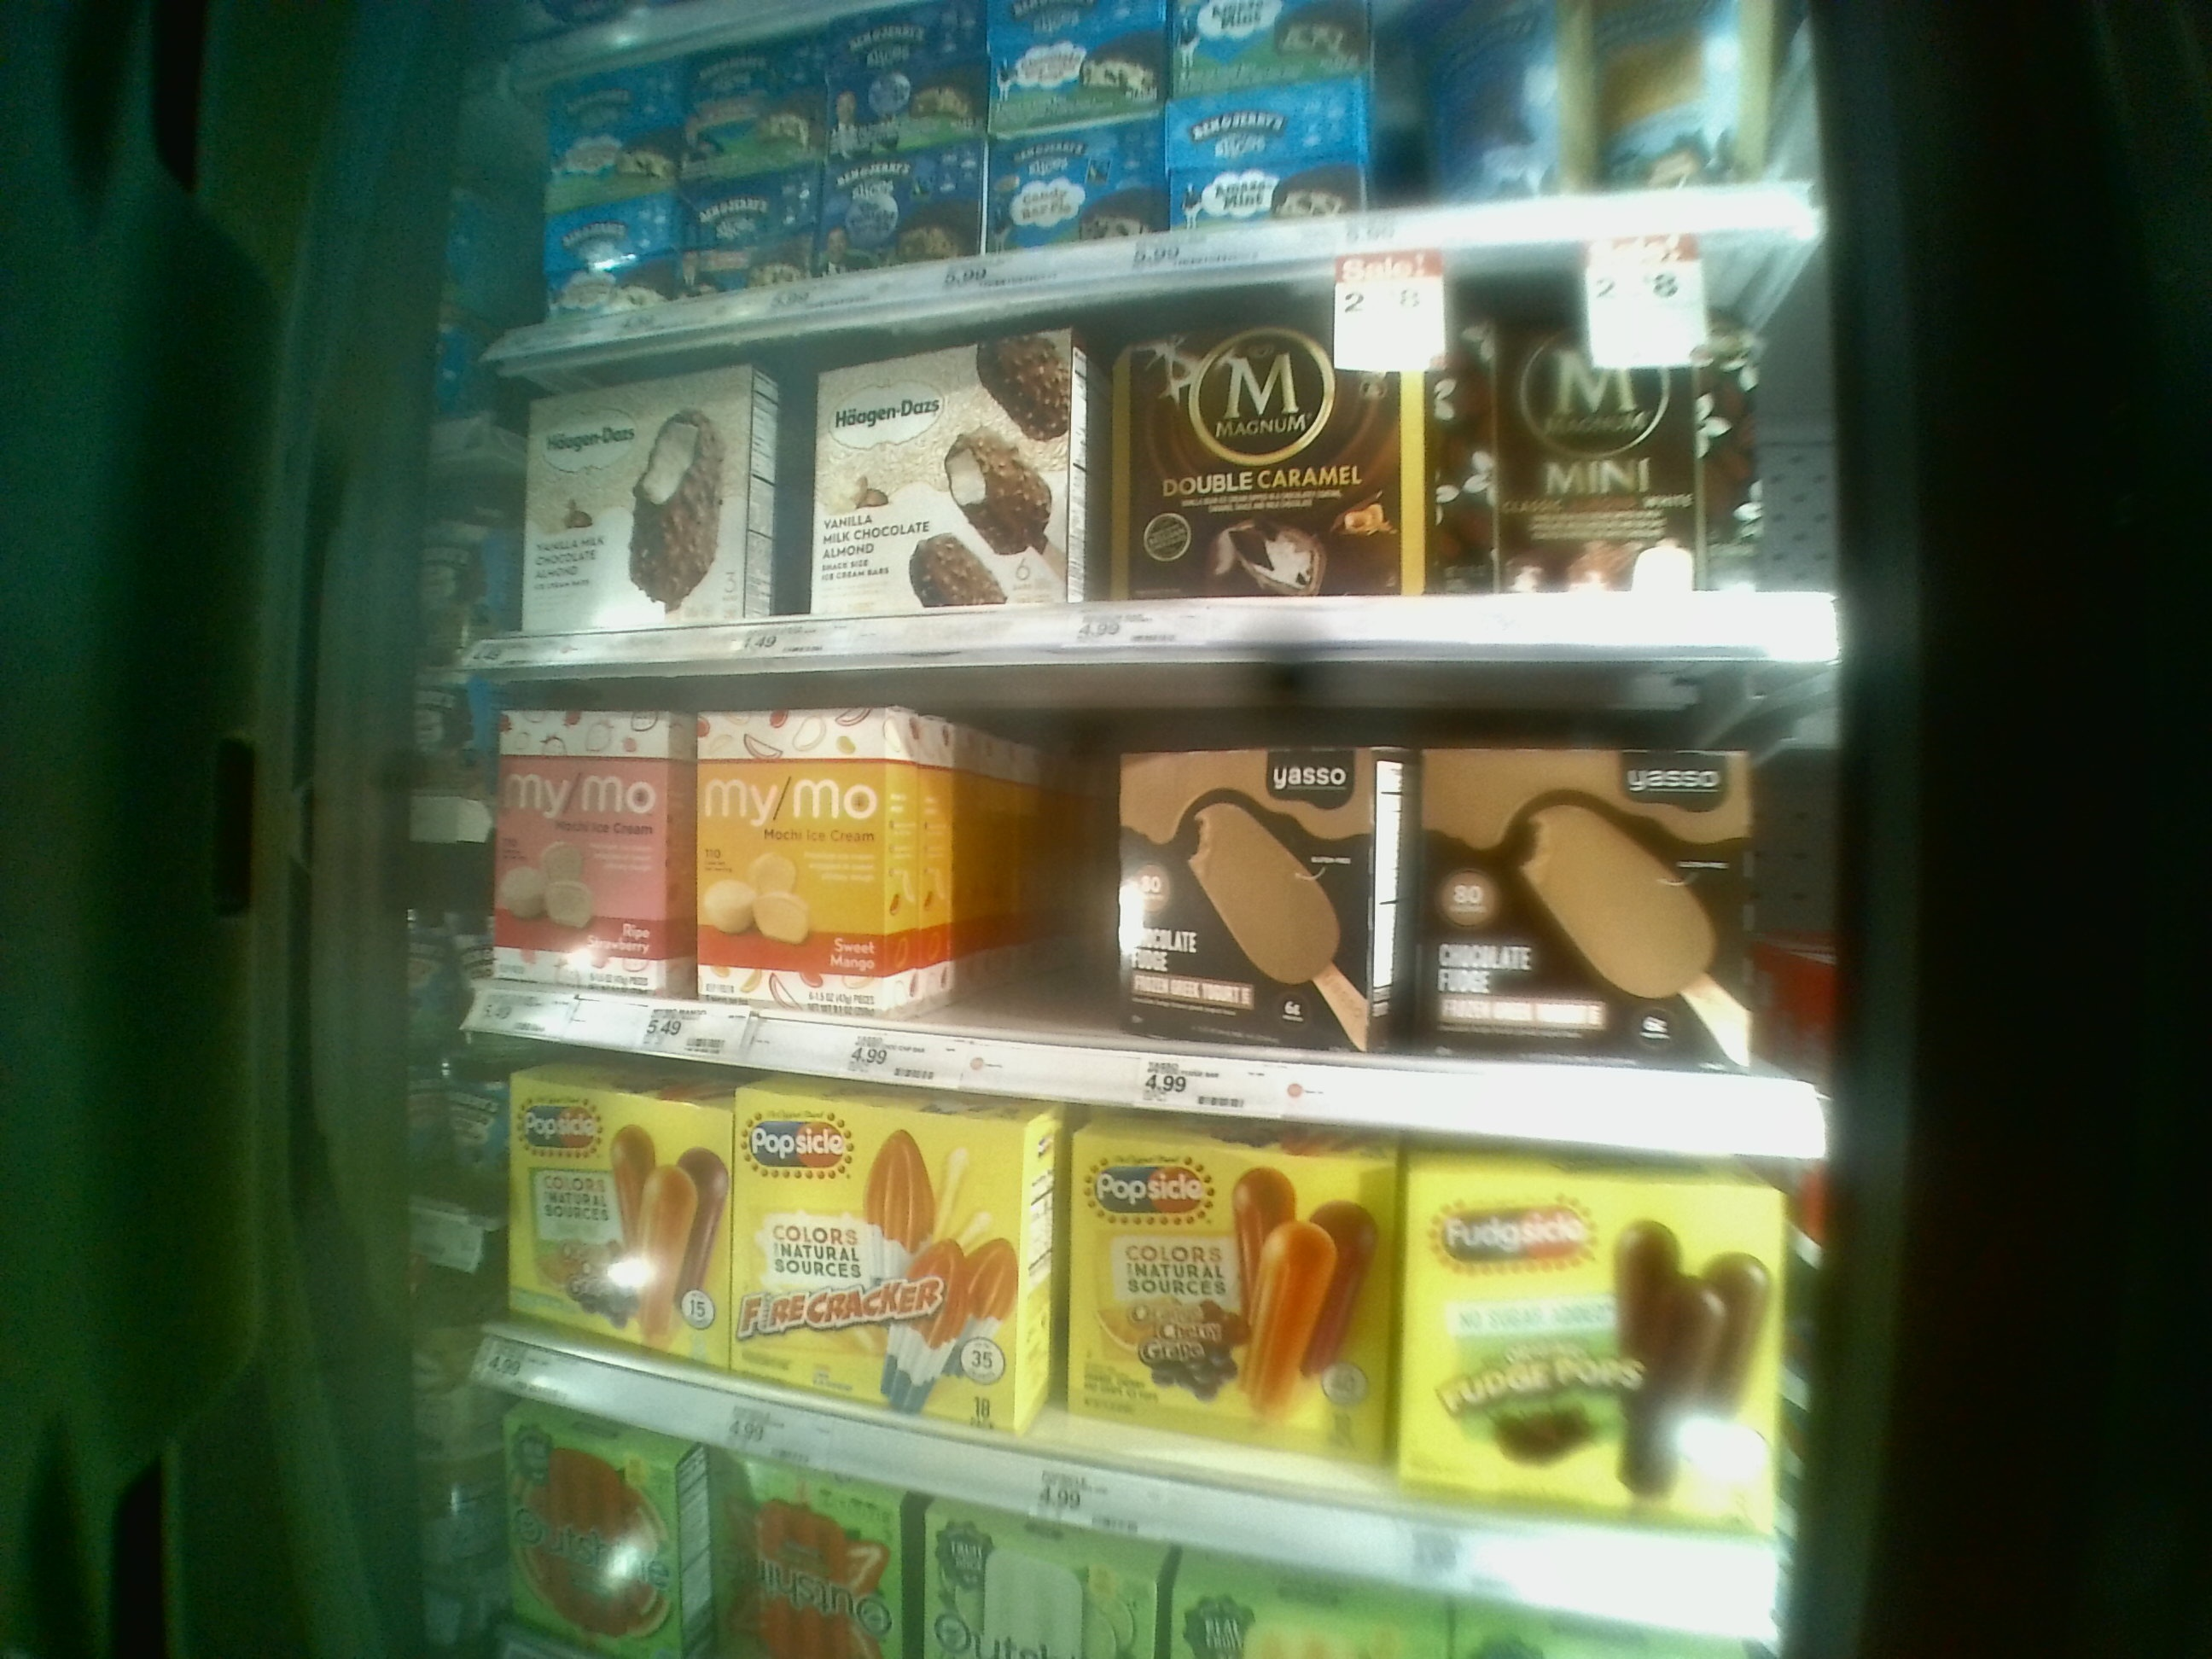shelf: (460, 1033, 1785, 1638), (469, 667, 1838, 1161), (477, 227, 1843, 664)
